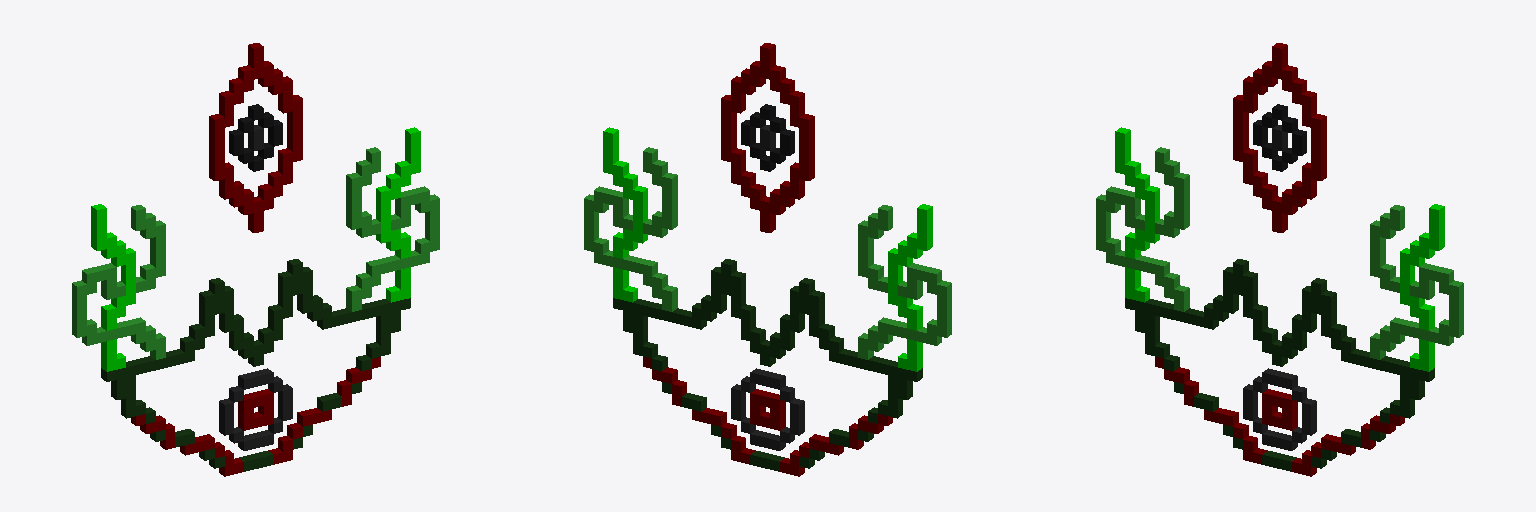
3 renders of one model, left to right at view 1: azimuth 30°, elevation 25°; view 2: azimuth 150°, elevation 25°; view 3: azimuth 330°, elevation 25°, orthographic.
Size of the model in its own units: 37 by 41 by 1.
Materials: 1 (1 with a texture image).